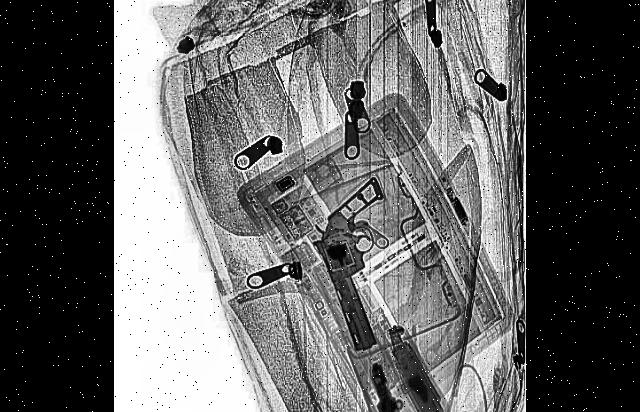Gun: (313, 172, 417, 362), (363, 353, 418, 412)
